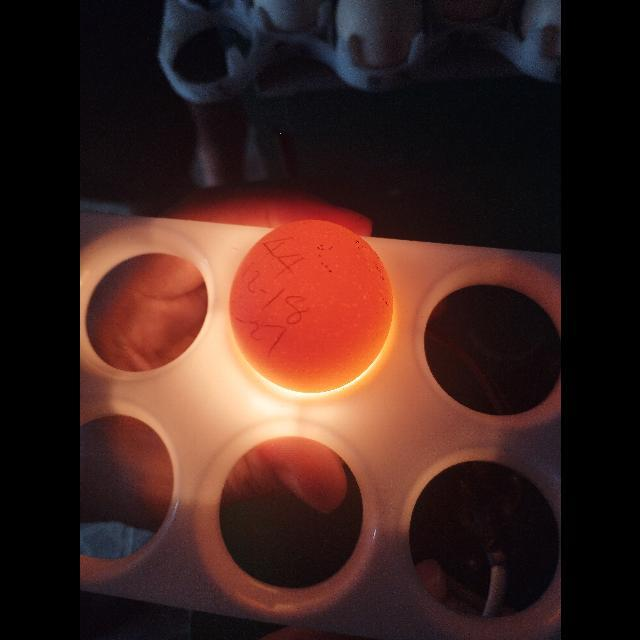Infertile: (223, 214, 401, 398)
